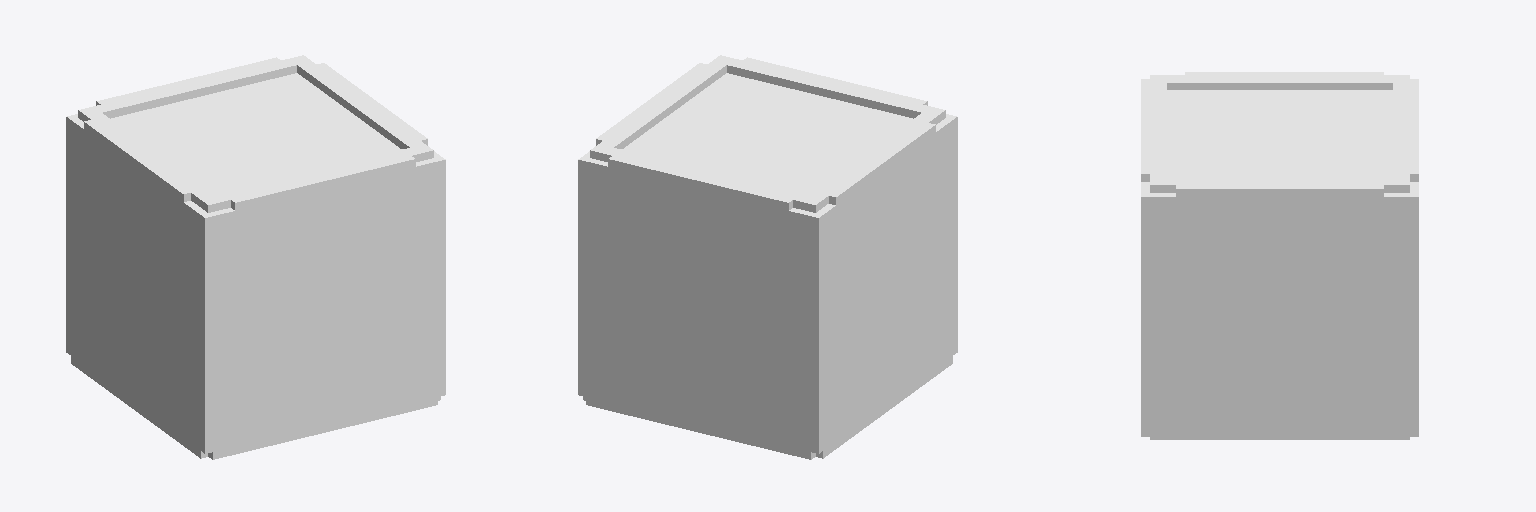
File: newwaterglass.obj
The picture shows the model from 3 angles: view 1: azimuth 30°, elevation 25°; view 2: azimuth 150°, elevation 25°; view 3: azimuth 270°, elevation 25°; orthographic projection.
Parts seen in each view (by area): view 1: object 1; view 2: object 1; view 3: object 1.
Boxes of the visible parts, x1=… form: object 1: x1=66, y1=55, x2=445, y2=459; object 1: x1=578, y1=55, x2=957, y2=459; object 1: x1=1141, y1=72, x2=1418, y2=439.
Size of the model in its own units: 3.2 by 3.2 by 3.2.